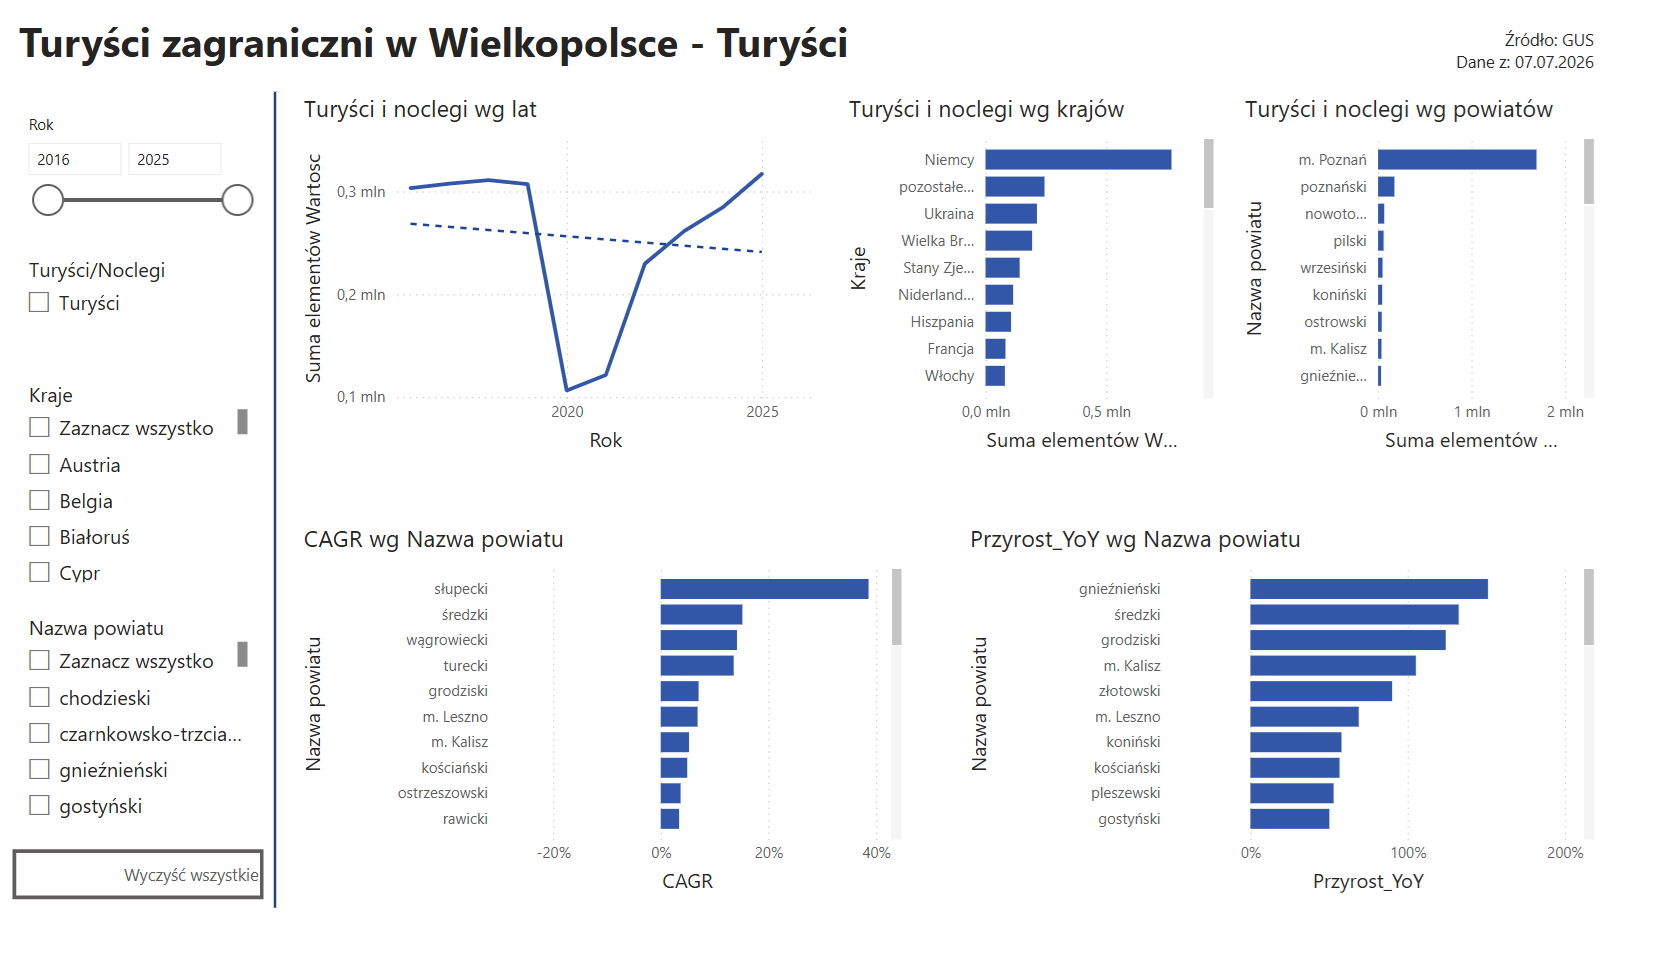

What the dashboard file says about the page in this screenshot:
{"tool":"powerbi","page":{"name":"Turyści","canvas":[1280,720],"ordinal":3},"visuals":[{"type":"lineChart","title":"Turyści wg lat","fields":{"Category":["DANE_Wielkopolska.Rok"],"Y":["Sum(DANE_Wielkopolska.Wartosc)"]},"box":[237.8,66.7,421.1,293.3],"z":0},{"type":"clusteredBarChart","title":"Turyści wg krajów","fields":{"Category":["DANE_Wielkopolska.Kraje"],"Y":["Sum(DANE_Wielkopolska.Wartosc)"]},"box":[674.4,66.7,301.1,293.3],"z":1000},{"type":"slicer","fields":{"Values":["DANE_Wielkopolska.Rok"]},"box":[9.7,79.8,201.3,99.2],"z":2000},{"type":"shape","box":[211.1,67.1,17.5,652.6],"z":3000},{"type":"slicer","fields":{"Values":["DANE_Wielkopolska.Kraje"]},"box":[9.7,292.8,193.6,172.2],"z":4000},{"type":"clusteredBarChart","title":"Turyści wg powiatów","fields":{"Category":["DANE_Wielkopolska.Nazwa powiatu"],"Y":["Sum(DANE_Wielkopolska.Wartosc)"]},"box":[991.1,66.7,288.9,293.3],"z":5000},{"type":"slicer","fields":{"Values":["DANE_Wielkopolska.Nazwa powiatu"]},"box":[9.7,479,193.6,179.9],"z":6000},{"type":"textbox","box":[9.7,0,792.7,59.3],"z":7000},{"type":"slicer","fields":{"Values":["DANE_Wielkopolska.Turyści/Noclegi - etykieta"]},"box":[9.7,193.1,193.6,85.6],"z":8000},{"type":"actionButton","box":[9.7,673.1,201.3,39.9],"z":9000},{"type":"textbox","box":[1122.1,10.7,157.6,56.4],"z":10000},{"type":"clusteredBarChart","fields":{"Category":["DANE_Wielkopolska.Nazwa powiatu"],"Y":["DANE_Wielkopolska.CAGR"]},"box":[237.8,411.1,487.8,302.2],"z":11000},{"type":"clusteredBarChart","title":"Przyrost YoY w ostatnim roku wg Nazwa powiatu","fields":{"Category":["DANE_Wielkopolska.Nazwa powiatu"],"Y":["DANE_Wielkopolska.Przyrost_YoY"]},"box":[771.1,411.1,508.9,302.2],"z":12000},{"type":"actionButton","box":[991.1,10.7,148.8,56.4],"z":13000}]}

Visuals, with their boxes in screenshot pixels (x1, y1, x2, y2), scaled from the page's 1280x720 canvas onto the 1667x957 screenshot:
"Turyści wg lat" lineChart: bbox=[310, 89, 858, 478]
"Turyści wg krajów" clusteredBarChart: bbox=[878, 89, 1270, 478]
slicer - DANE_Wielkopolska.Rok: bbox=[13, 106, 275, 238]
shape: bbox=[275, 89, 298, 956]
slicer - DANE_Wielkopolska.Kraje: bbox=[13, 389, 265, 618]
"Turyści wg powiatów" clusteredBarChart: bbox=[1291, 89, 1666, 478]
slicer - DANE_Wielkopolska.Nazwa powiatu: bbox=[13, 637, 265, 876]
textbox: bbox=[13, 0, 1045, 79]
slicer - DANE_Wielkopolska.Turyści/Noclegi - etykieta: bbox=[13, 257, 265, 370]
actionButton: bbox=[13, 895, 275, 948]
textbox: bbox=[1461, 14, 1666, 89]
clusteredBarChart - DANE_Wielkopolska.Nazwa powiatu x DANE_Wielkopolska.CAGR: bbox=[310, 546, 945, 948]
"Przyrost YoY w ostatnim roku wg Nazwa powiatu" clusteredBarChart: bbox=[1004, 546, 1666, 948]
actionButton: bbox=[1291, 14, 1485, 89]
